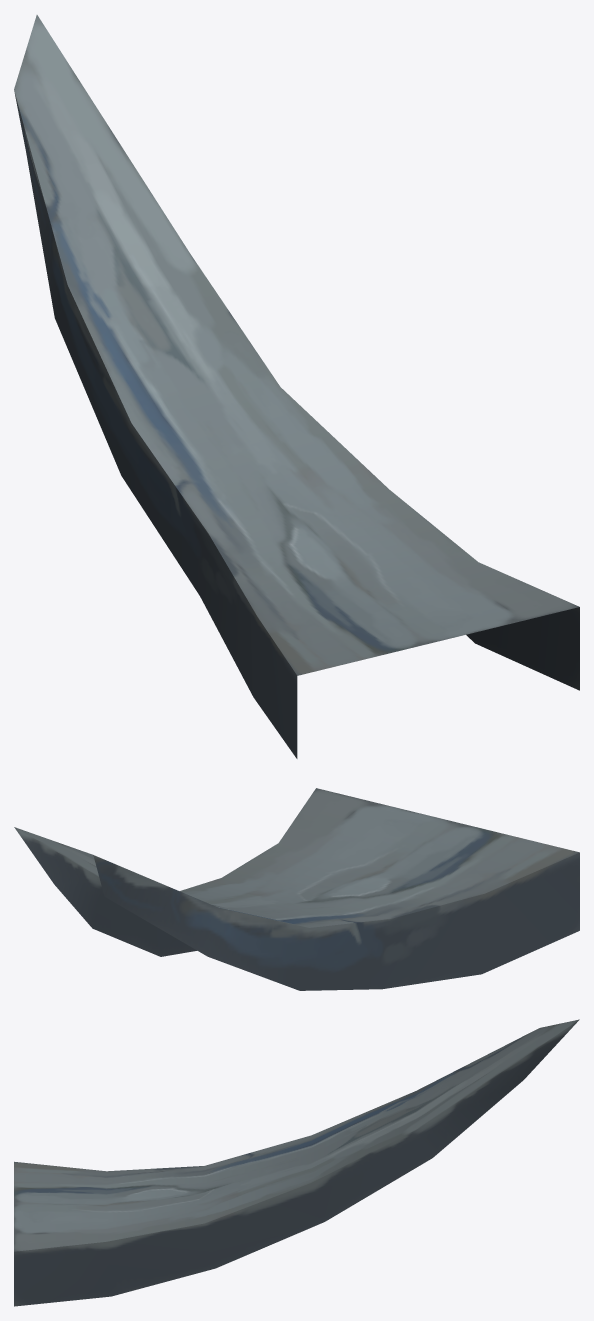
The model's file is yewai_jianshi_01.FBX.
3 renders of one model, top to bottom at view 1: azimuth 30°, elevation 25°; view 2: azimuth 150°, elevation 25°; view 3: azimuth 270°, elevation 25°, orthographic. The views are drawn at different scales.
Parts seen in each view (by area): view 1: yewai_jianshi_01; view 2: yewai_jianshi_01; view 3: yewai_jianshi_01.
Boxes of the visible parts, x1,y1,x2,y2 form: yewai_jianshi_01: (14,15,579,758); yewai_jianshi_01: (14,788,579,990); yewai_jianshi_01: (14,1019,579,1306).
Bounding box in the file's own units: 145 × 189 × 385.
